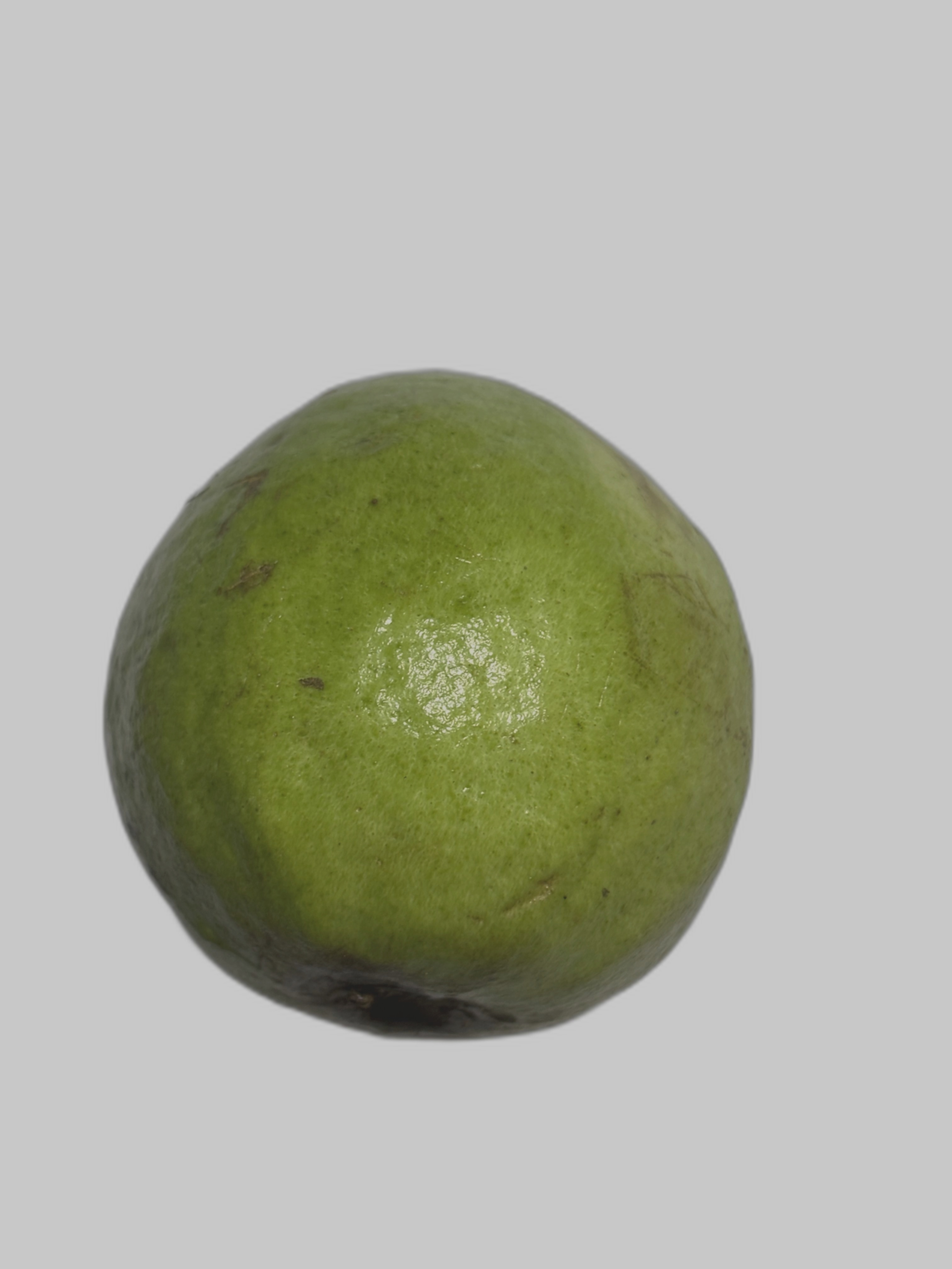guava: (114, 237, 933, 1008)
